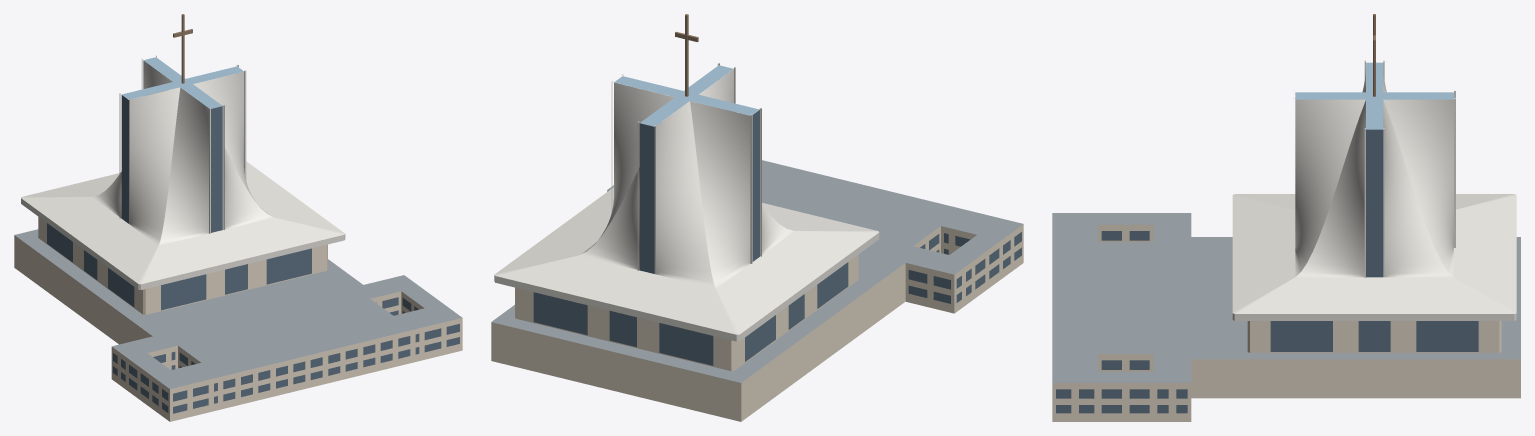
Rendered from sf-st-marys-cathedral.glb.
The picture shows the model from 3 angles, left to right: view 1: azimuth 30°, elevation 25°; view 2: azimuth 150°, elevation 25°; view 3: azimuth 270°, elevation 25°; orthographic projection. The views are drawn at different scales.
Visible parts, largest first — view 1: Cathedral of Saint Mary of the Assumption; view 2: Cathedral of Saint Mary of the Assumption; view 3: Cathedral of Saint Mary of the Assumption.
Boxes of the visible parts, x1,y1,x2,y2 form: Cathedral of Saint Mary of the Assumption: [14, 14, 462, 421]; Cathedral of Saint Mary of the Assumption: [491, 14, 1023, 421]; Cathedral of Saint Mary of the Assumption: [1052, 14, 1520, 421].
Bounding box in the file's own units: 106 × 94.5 × 124.
